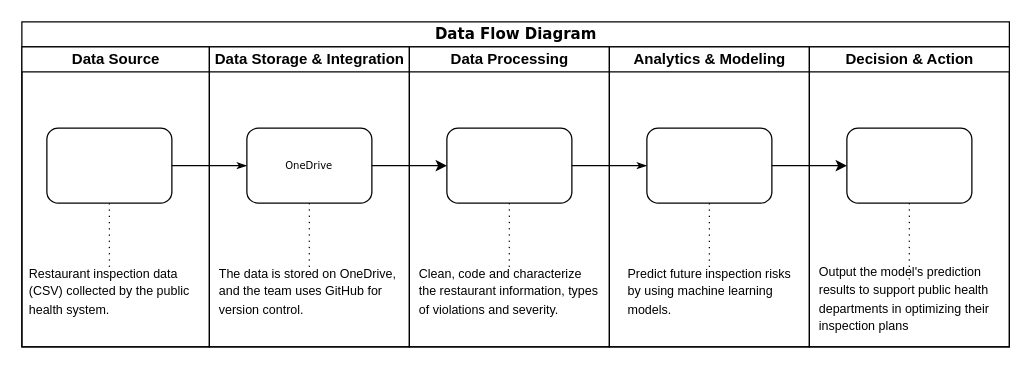
Some shapes in this 1031 by 369 pixel diagram are drawn without their labels. The shapes that lost their labels are listed below. From the top down, each one's centre as x and y in pixels, then its label:
point 109,165: DineSafe Dataset (City of Toronto Open Data)
point 509,165: Python scripts (Cleaning, Feature Engineering)
point 709,165: Risk Prediction Model
point 909,165: Inspection Prioritization
